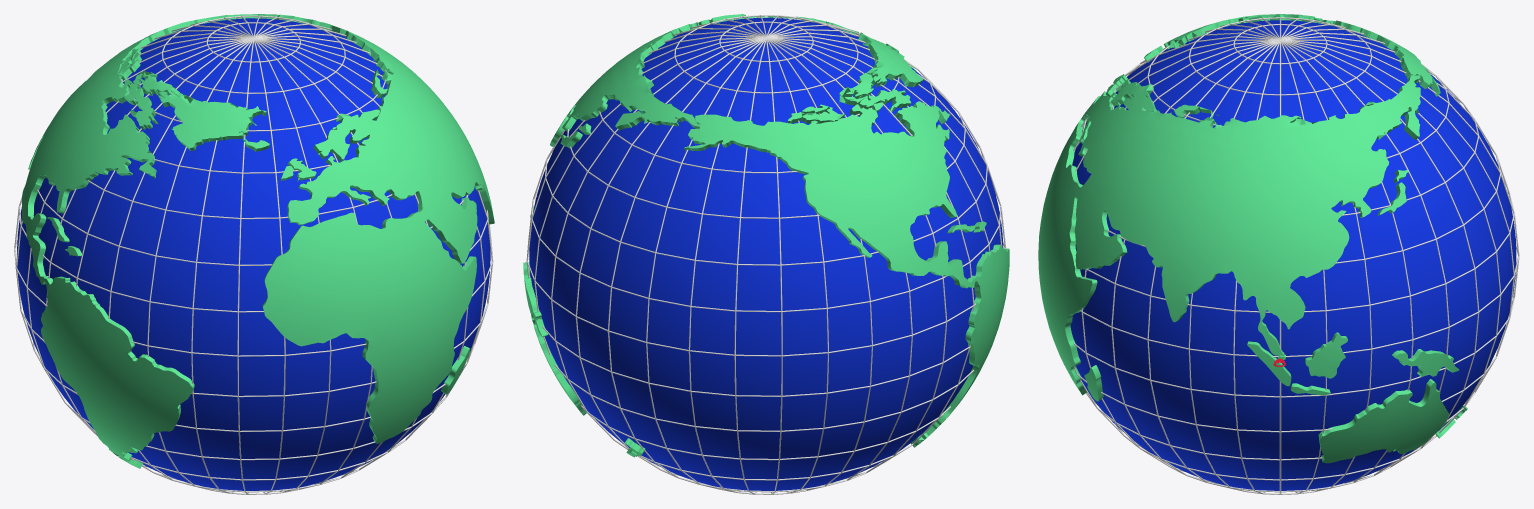
The model's file is simpleGlobe.glb.
3 renders of one model, left to right at view 1: azimuth 30°, elevation 25°; view 2: azimuth 150°, elevation 25°; view 3: azimuth 270°, elevation 25°, orthographic.
Parts seen in each view (by area): view 1: Icosphere, Map, SphereWire; view 2: Icosphere, Map, SphereWire; view 3: Icosphere, Map, SphereWire.
Boxes of the visible parts, x1,y1,x2,y2 form: Icosphere: (17, 18, 490, 490); Map: (21, 14, 494, 468); SphereWire: (14, 15, 493, 494); Icosphere: (529, 17, 1003, 490); Map: (523, 14, 1009, 457); SphereWire: (526, 15, 1006, 494); Icosphere: (1070, 20, 1516, 490); Map: (1038, 14, 1467, 463); SphereWire: (1073, 17, 1519, 494).
Bounding box in the file's own units: 2.15 × 2.03 × 2.04.
